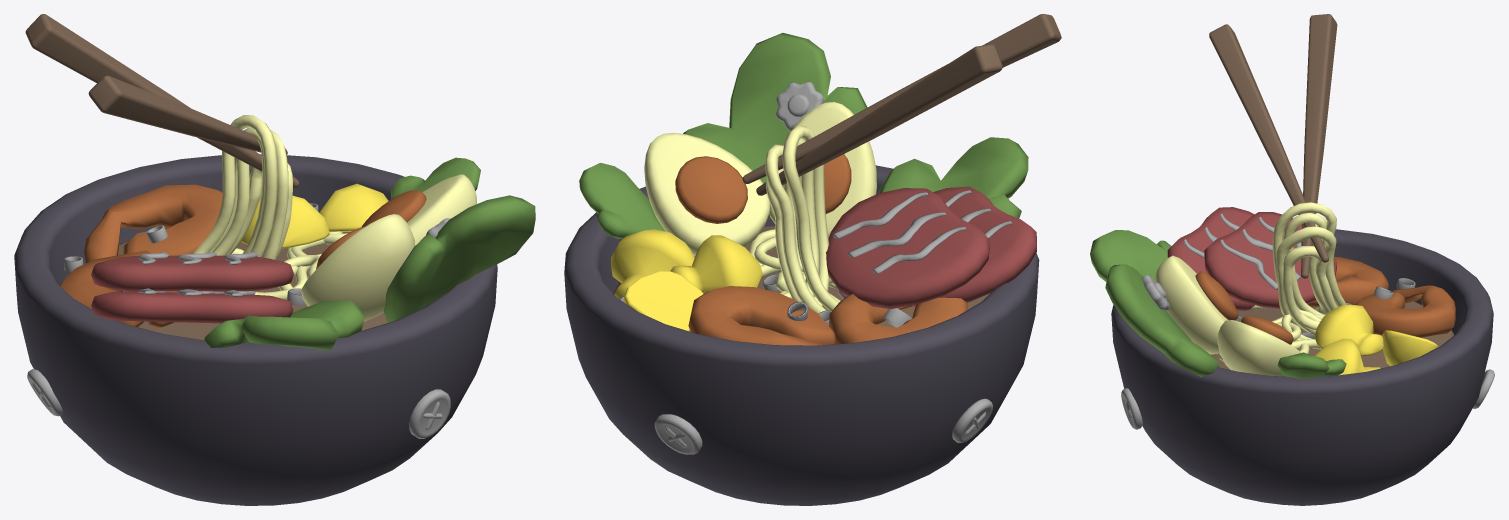
The model's file is Ramen.fbx.
The picture shows the model from 3 angles, left to right: view 1: azimuth 30°, elevation 25°; view 2: azimuth 150°, elevation 25°; view 3: azimuth 270°, elevation 25°; orthographic projection. The views are drawn at different scales.
Visible parts, largest first — view 1: S_Ramen_8, M_Ramen_2, M_Ramen_1, M_Ramen_21, M_Ramen_22, M_Ramen_10, M_Ramen_20, S_Ramen_10, S_Ramen_9, S_Ramen_6, M_Ramen_3, M_Ramen_15 (+11 smaller); view 2: S_Ramen_8, M_Ramen_22, M_Ramen_2, M_Ramen_3, M_Ramen_1, S_Ramen_9, M_Ramen_20, M_Ramen_10, S_Ramen_6, M_Ramen_13, S_Ramen_12, M_Ramen_14 (+17 smaller); view 3: S_Ramen_8, M_Ramen_22, M_Ramen_2, S_Ramen_9, S_Ramen_10, M_Ramen_1, M_Ramen_21, M_Ramen_3, M_Ramen_20, M_Ramen_7, M_Ramen_10, S_Ramen_5 (+13 smaller).
Part boxes in pixels (x1=…): S_Ramen_8: x1=14, y1=154, x2=497, y2=505; M_Ramen_2: x1=383, y1=195, x2=535, y2=322; M_Ramen_1: x1=84, y1=184, x2=222, y2=263; M_Ramen_21: x1=301, y1=214, x2=414, y2=321; M_Ramen_22: x1=91, y1=255, x2=293, y2=291; M_Ramen_10: x1=91, y1=291, x2=293, y2=323; M_Ramen_20: x1=204, y1=300, x2=364, y2=350; S_Ramen_10: x1=88, y1=75, x2=287, y2=154; S_Ramen_9: x1=25, y1=14, x2=299, y2=188; S_Ramen_6: x1=193, y1=115, x2=277, y2=257; M_Ramen_3: x1=407, y1=174, x2=476, y2=245; M_Ramen_15: x1=319, y1=183, x2=388, y2=231; S_Ramen_8: x1=564, y1=165, x2=1039, y2=505; M_Ramen_22: x1=826, y1=188, x2=989, y2=308; M_Ramen_2: x1=683, y1=33, x2=867, y2=218; M_Ramen_3: x1=644, y1=132, x2=769, y2=256; M_Ramen_1: x1=688, y1=286, x2=835, y2=345; S_Ramen_9: x1=756, y1=44, x2=1002, y2=195; M_Ramen_20: x1=878, y1=137, x2=1028, y2=218; M_Ramen_10: x1=912, y1=186, x2=1036, y2=306; S_Ramen_6: x1=782, y1=125, x2=839, y2=310; M_Ramen_13: x1=579, y1=163, x2=665, y2=238; S_Ramen_12: x1=675, y1=156, x2=747, y2=223; M_Ramen_14: x1=829, y1=294, x2=967, y2=344; S_Ramen_8: x1=1111, y1=229, x2=1493, y2=505; M_Ramen_22: x1=1204, y1=212, x2=1336, y2=308; M_Ramen_2: x1=1105, y1=264, x2=1219, y2=377; S_Ramen_9: x1=1301, y1=14, x2=1337, y2=278; S_Ramen_10: x1=1209, y1=24, x2=1328, y2=262; M_Ramen_1: x1=1356, y1=285, x2=1455, y2=337; M_Ramen_21: x1=1155, y1=255, x2=1228, y2=354; M_Ramen_3: x1=1217, y1=320, x2=1301, y2=376; M_Ramen_20: x1=1090, y1=230, x2=1171, y2=281; M_Ramen_7: x1=1314, y1=304, x2=1383, y2=356; M_Ramen_10: x1=1167, y1=207, x2=1254, y2=310; S_Ramen_5: x1=1276, y1=226, x2=1346, y2=330.
Bounding box in the file's own units: 505 × 554 × 517.
